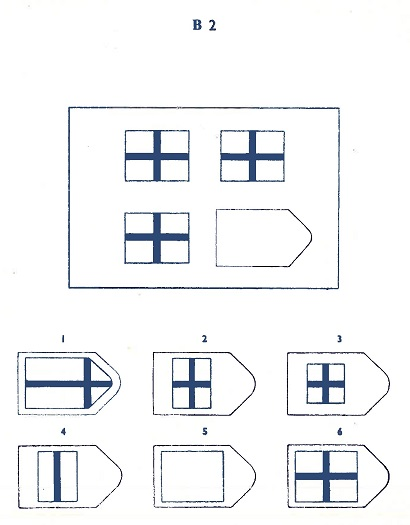Array 1: (13, 330, 124, 420)
Array 2: (148, 331, 261, 420)
Array 3: (283, 330, 393, 421)
Array 4: (14, 424, 126, 512)
Array 5: (147, 423, 263, 513)
Array 6: (284, 424, 396, 513)
Matrix 1: (118, 124, 195, 187)
Matrix 2: (215, 125, 290, 189)
Matrix 3: (120, 205, 194, 271)
Matrix Unknown: (213, 204, 314, 272)
